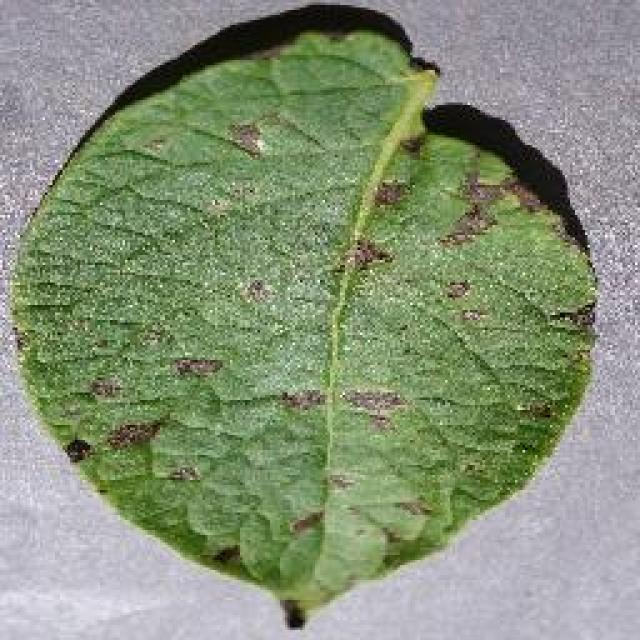Potato___Early_blight: (11, 23, 599, 629)
